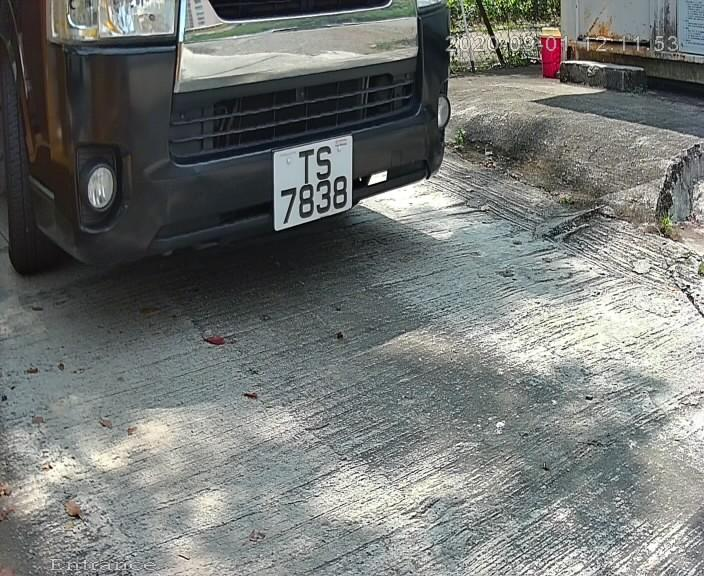Car: (7, 1, 513, 314)
License Plate: (265, 132, 368, 232)
